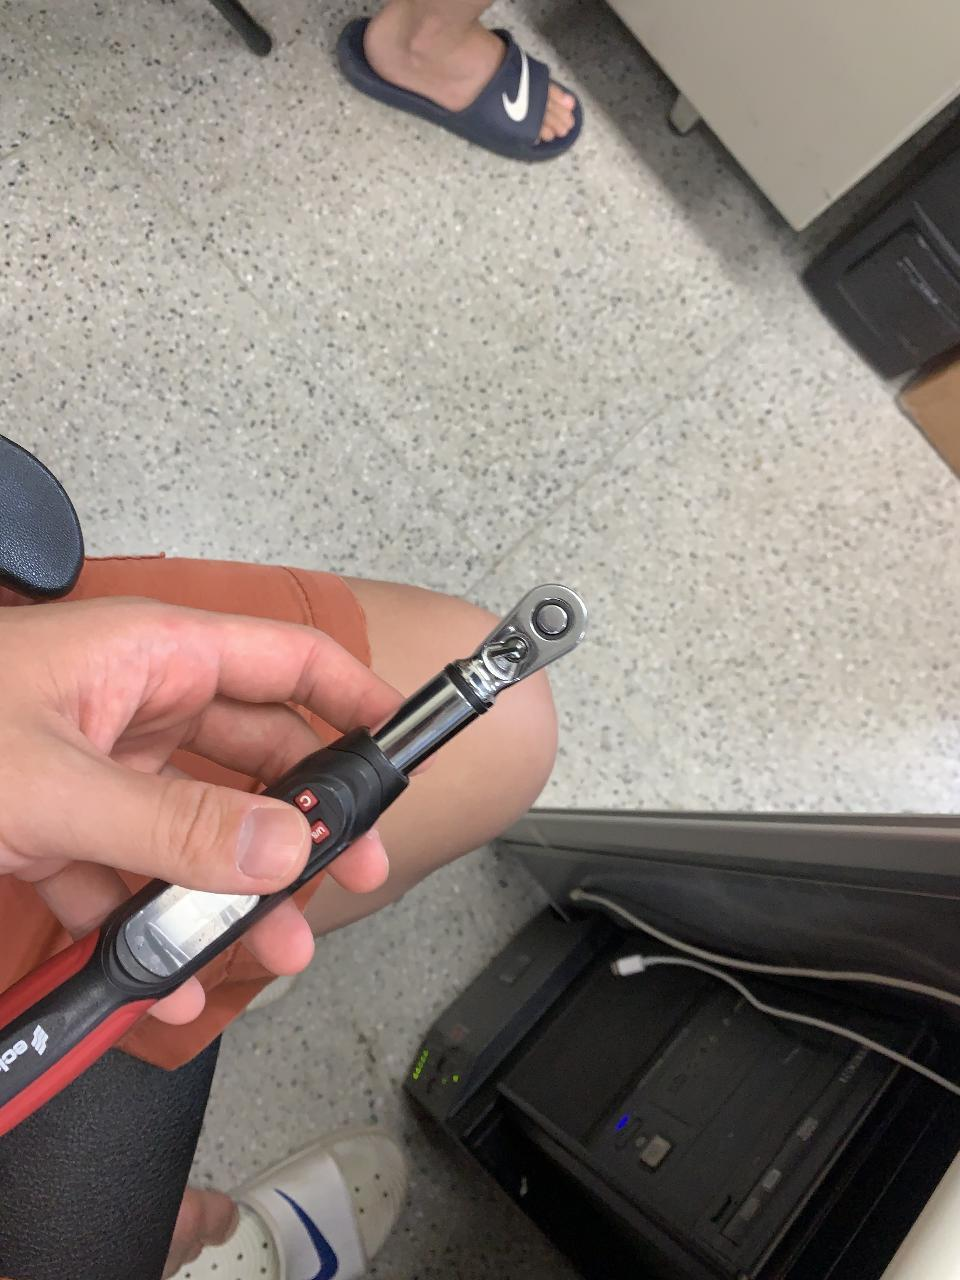Tool: (469, 583, 588, 697)
